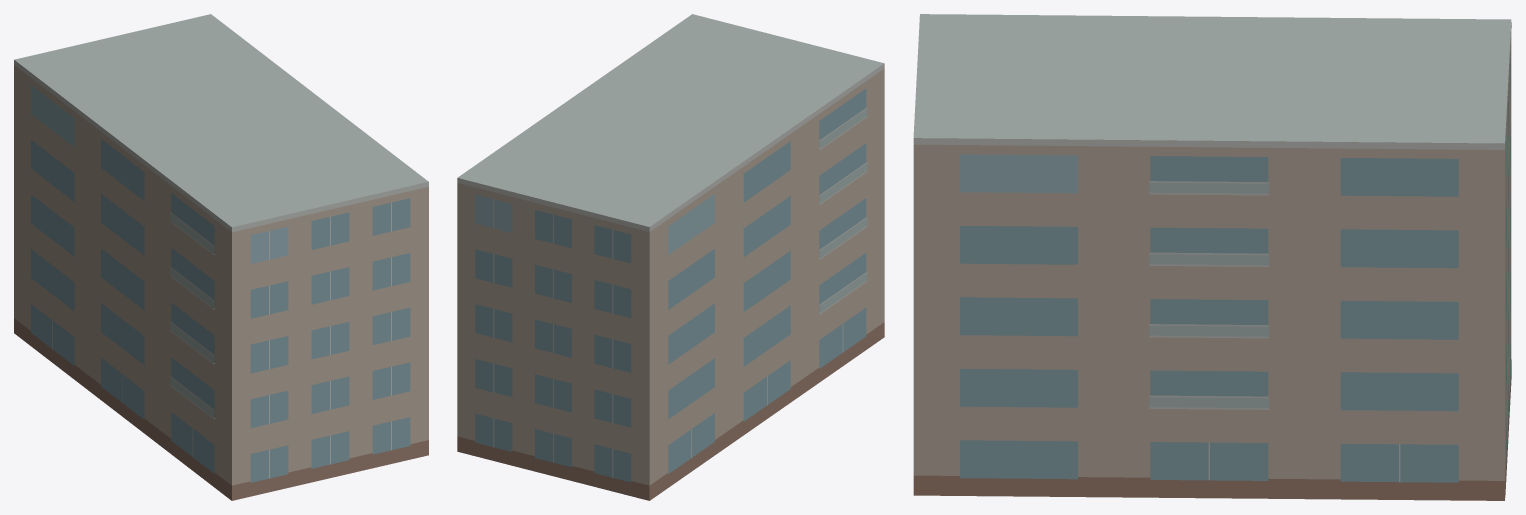
Rendered from survey-upis-32724938.glb.
3 views of the same model, side by side, from view 1: azimuth 30°, elevation 25°; view 2: azimuth 150°, elevation 25°; view 3: azimuth 270°, elevation 25° (orthographic). The views are drawn at different scales.
Visible parts, largest first — view 1: survey-upis-32724938.tmp; view 2: survey-upis-32724938.tmp; view 3: survey-upis-32724938.tmp.
Part boxes in pixels (bbox=[...]): survey-upis-32724938.tmp: bbox=[14, 14, 428, 500]; survey-upis-32724938.tmp: bbox=[457, 14, 884, 500]; survey-upis-32724938.tmp: bbox=[913, 14, 1511, 500].
Size of the model in its own units: 10.42 by 13.4 by 20.33.
